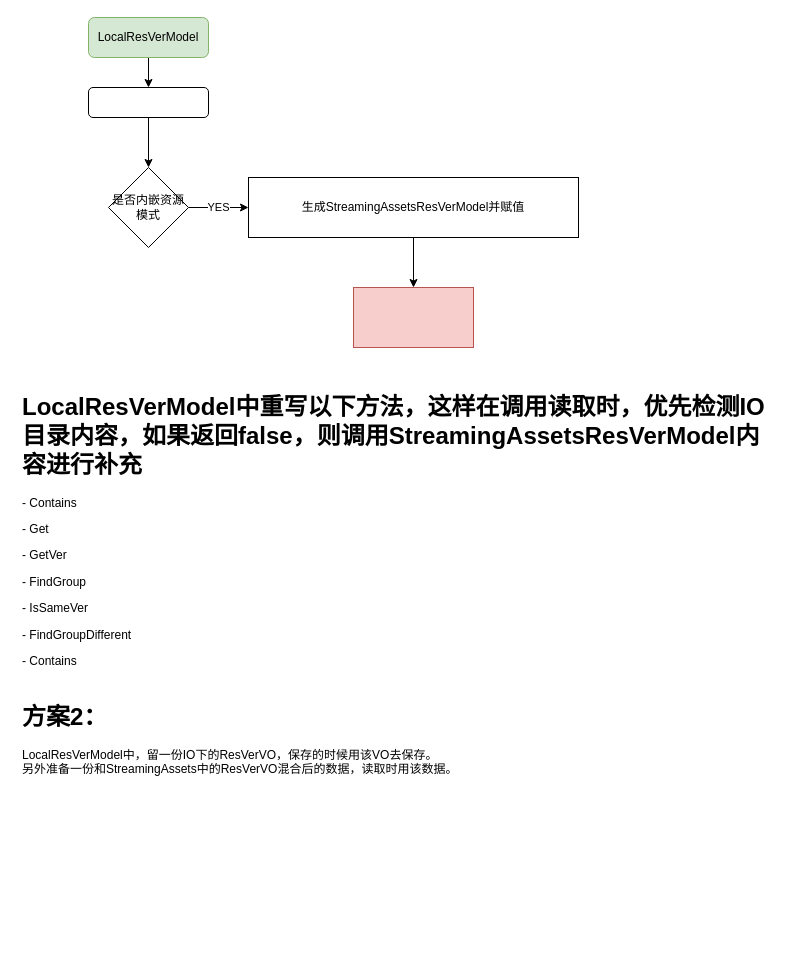
Image size: 794x975. Some labels were removed from this diagram. The centre of each missing label's shape, as x and y in pixels:
"Load" belongs at (148,102).
"构建完成" belongs at (413,317).
